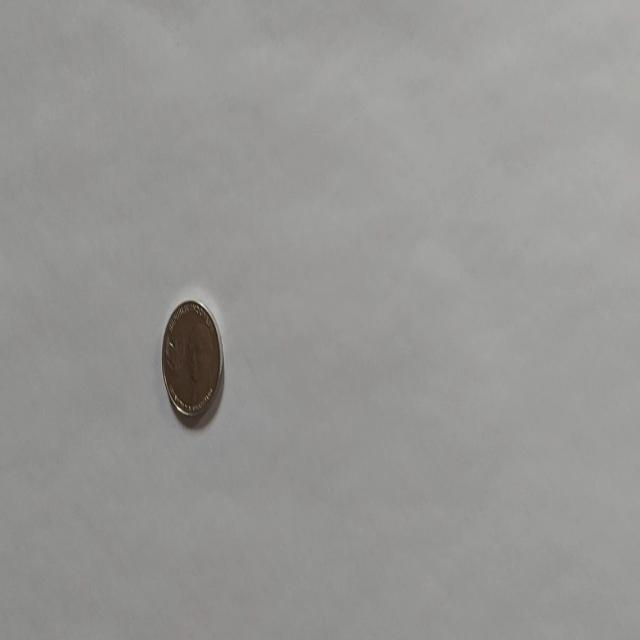lima ratus rupiah: (160, 298, 224, 423)
